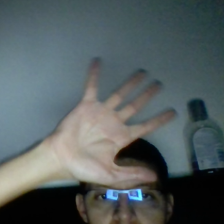left: (45, 46, 179, 199)
